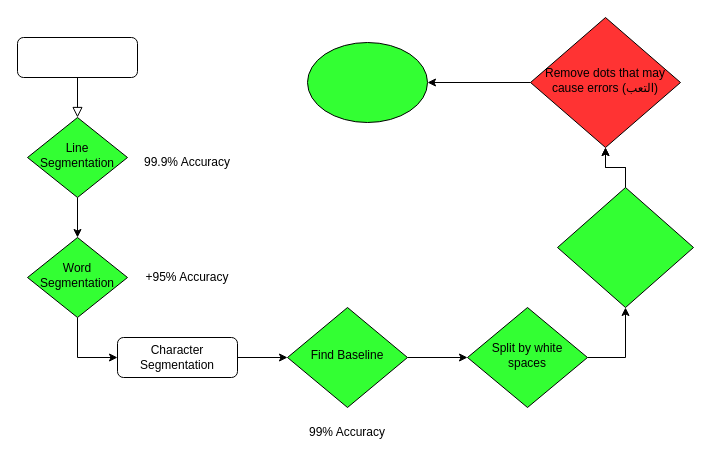
The diagram is 711 pixels wide and 465 high, and some of its shapes have lost their labels. Each missing label, with the box of its shape:
Find character end and split original image: (306, 42, 428, 122)
Read page as Image: (16, 36, 138, 78)
Remove upper and lower dots (ن, ب): (556, 186, 694, 308)
